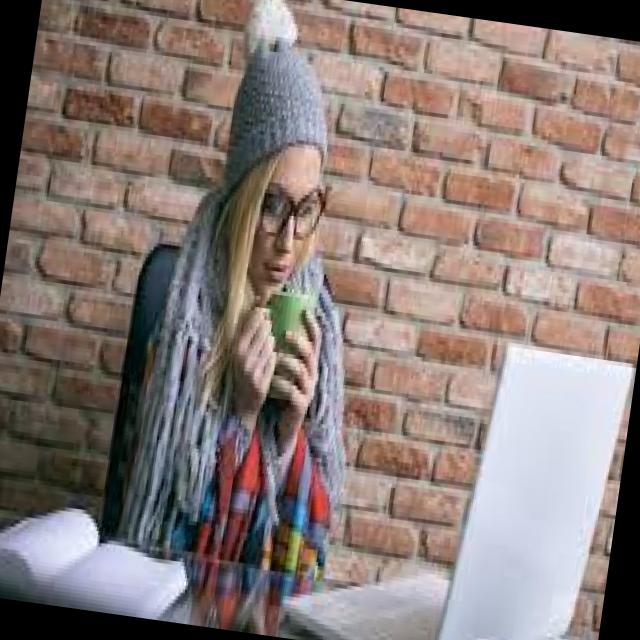Jacket: (126, 242, 332, 638)
